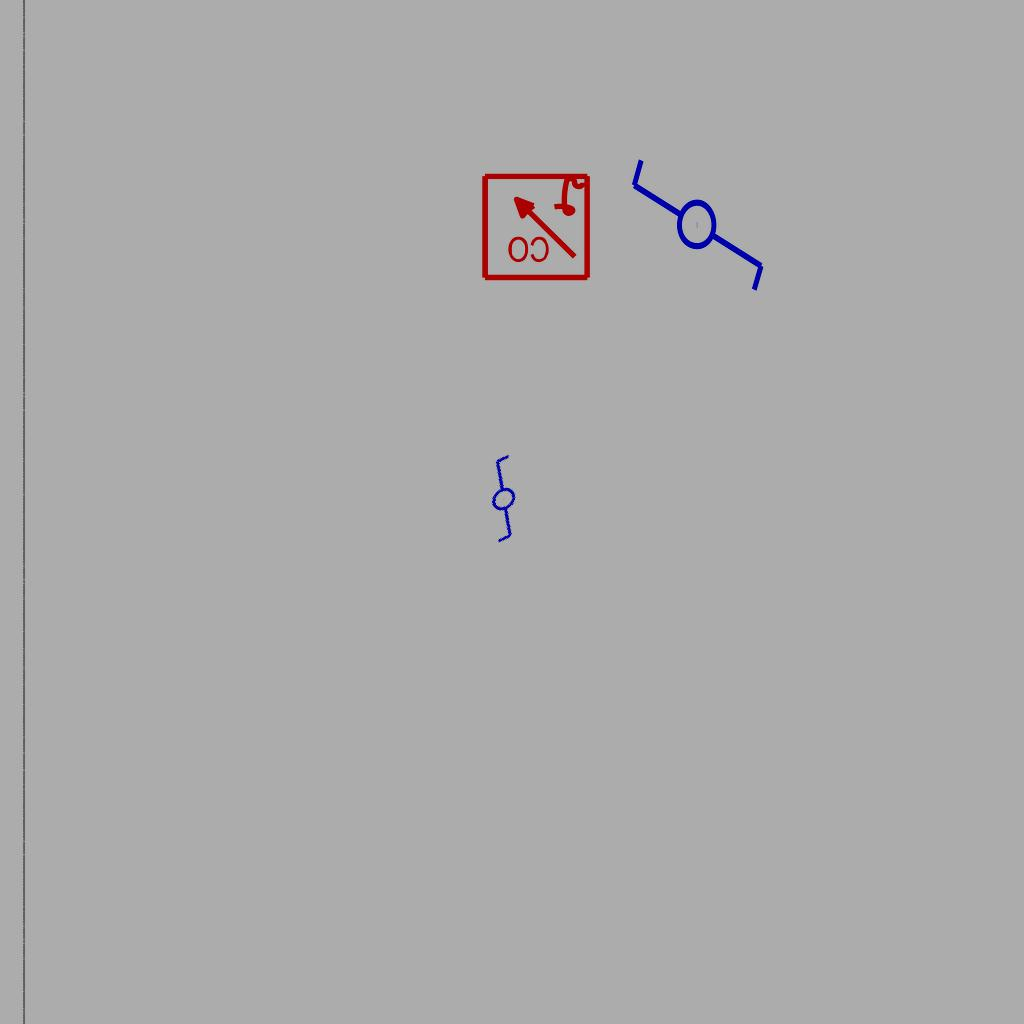ROA_Rauchmelder_optisch_mit_Signalgeber_(Sockelsirene): (479, 169, 592, 282)
Wechselschalter: (627, 138, 771, 295), (446, 448, 554, 554)
